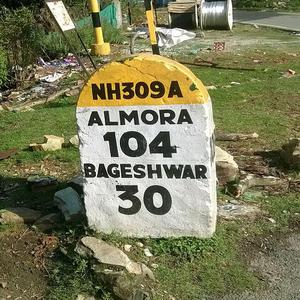kmstone: (72, 51, 221, 246)
